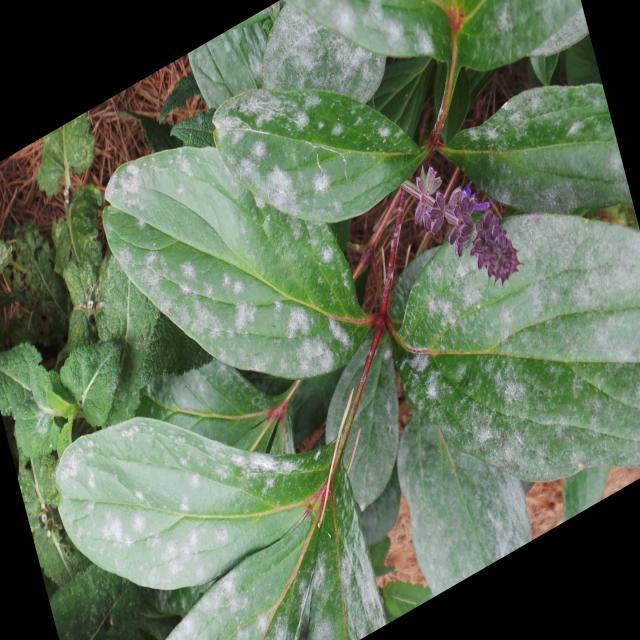Powdery Mildew: (54, 414, 387, 638), (396, 210, 639, 482), (102, 144, 361, 380)
